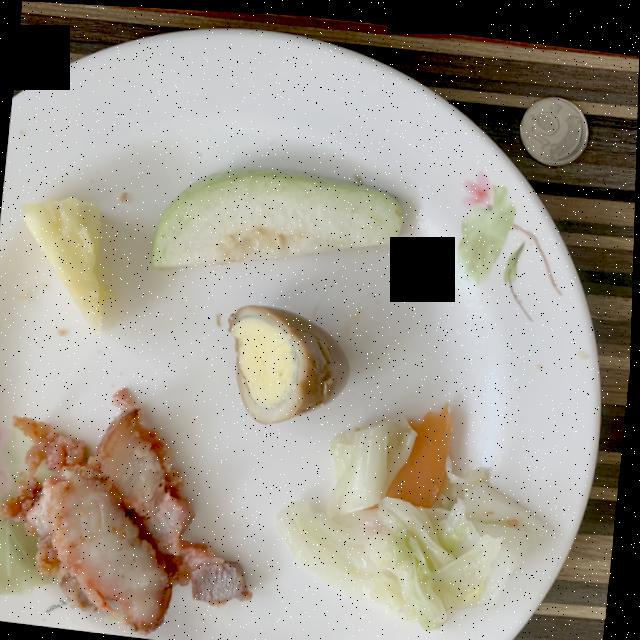cabbage: (279, 398, 551, 624)
coin: (521, 90, 588, 158)
guava -sliced-: (153, 163, 404, 266)
pineapple: (20, 194, 115, 333)
red grilled pork: (0, 387, 255, 632)
soy egg: (230, 301, 352, 420)
